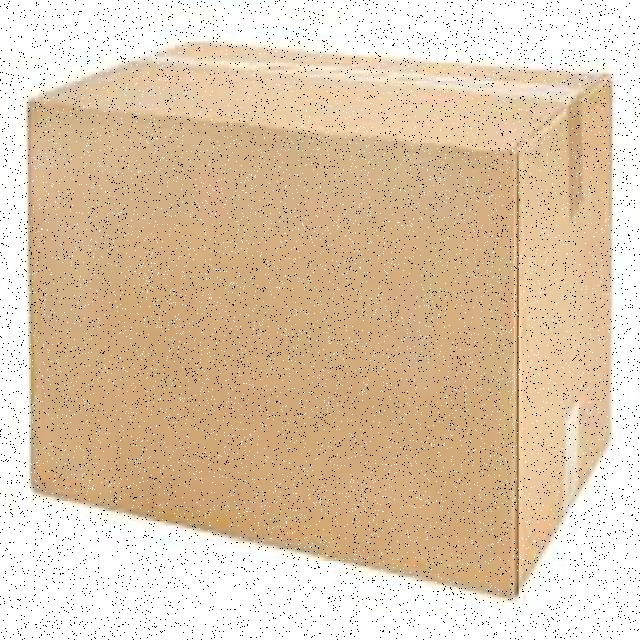normal: (20, 36, 620, 604)
